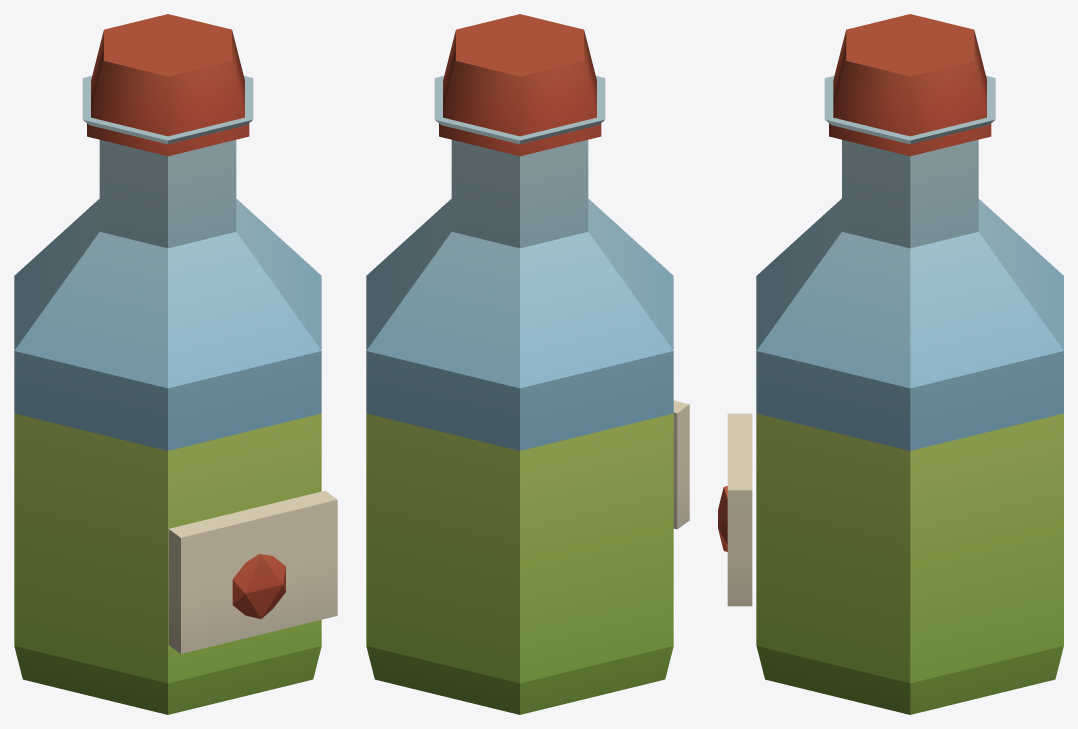
The model's file is item_tonic_bottled.glb.
3 views of the same model, side by side, from view 1: azimuth 30°, elevation 25°; view 2: azimuth 150°, elevation 25°; view 3: azimuth 270°, elevation 25° (orthographic).
Parts seen in each view (by area): view 1: item_tonic_bottled; view 2: item_tonic_bottled; view 3: item_tonic_bottled.
Boxes of the visible parts, left/top/right/bottom form: item_tonic_bottled: left=14, top=14, right=337, bottom=714; item_tonic_bottled: left=366, top=14, right=689, bottom=714; item_tonic_bottled: left=718, top=14, right=1063, bottom=714.
Size of the model in its own units: 0.72 by 1.34 by 0.7015.
Materials: 1 (1 with a texture image).
